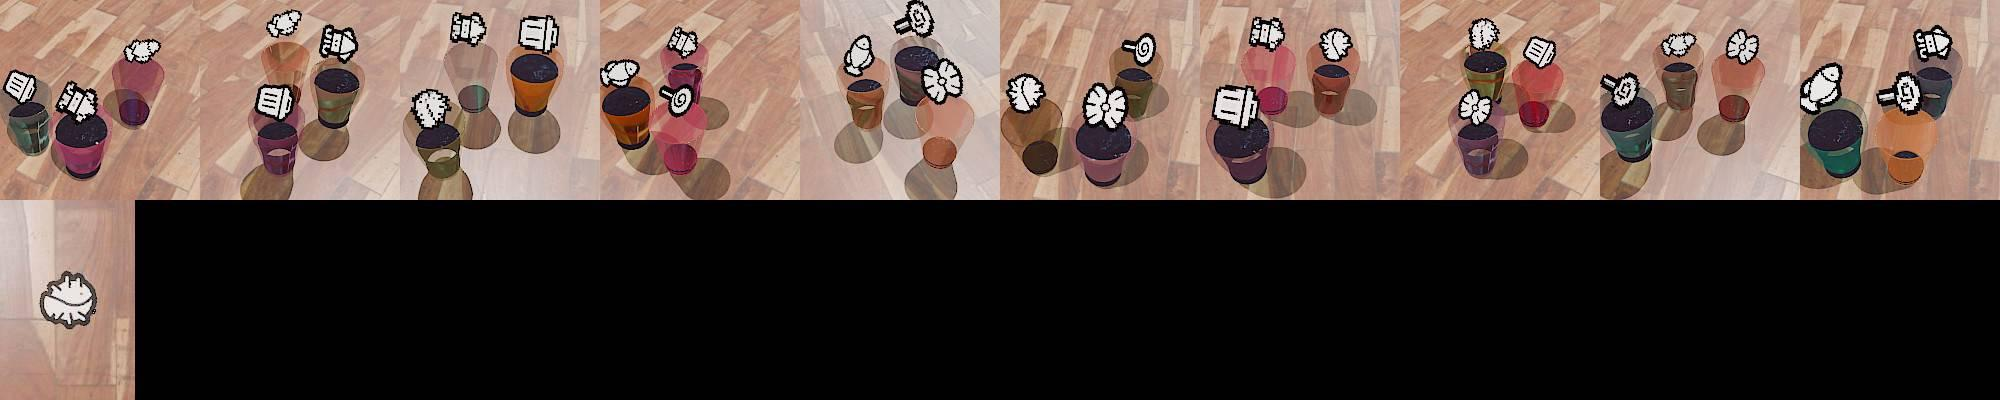icon: (38, 270, 98, 330), (1080, 82, 1129, 129), (1800, 61, 1843, 113), (1212, 83, 1261, 127), (921, 59, 964, 106), (1876, 71, 1921, 116), (517, 14, 561, 56), (409, 88, 453, 129), (56, 82, 98, 122), (1005, 73, 1043, 115), (1913, 24, 1955, 62), (255, 83, 295, 122), (319, 23, 358, 61), (449, 10, 487, 47), (894, 1, 934, 37), (1249, 15, 1287, 51), (843, 34, 875, 76), (599, 59, 642, 89), (1724, 28, 1760, 64), (3, 69, 38, 104), (665, 24, 702, 59), (659, 83, 696, 117), (1318, 28, 1352, 62), (1467, 18, 1500, 54), (264, 9, 302, 39), (1522, 36, 1556, 69), (1457, 89, 1490, 122), (1659, 32, 1698, 60), (1598, 73, 1635, 101), (124, 37, 162, 62), (1126, 33, 1156, 65)
